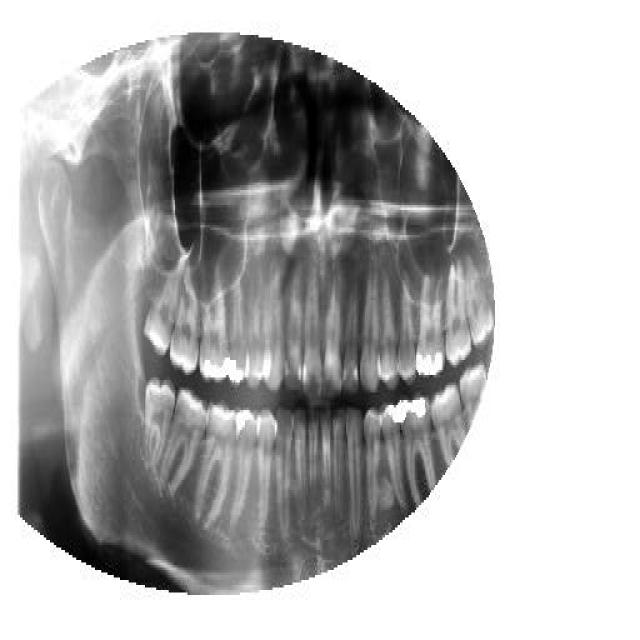Fillings: (398, 395, 437, 505), (198, 265, 232, 383), (228, 405, 258, 537), (415, 270, 445, 378), (379, 397, 406, 515), (225, 272, 247, 388)
